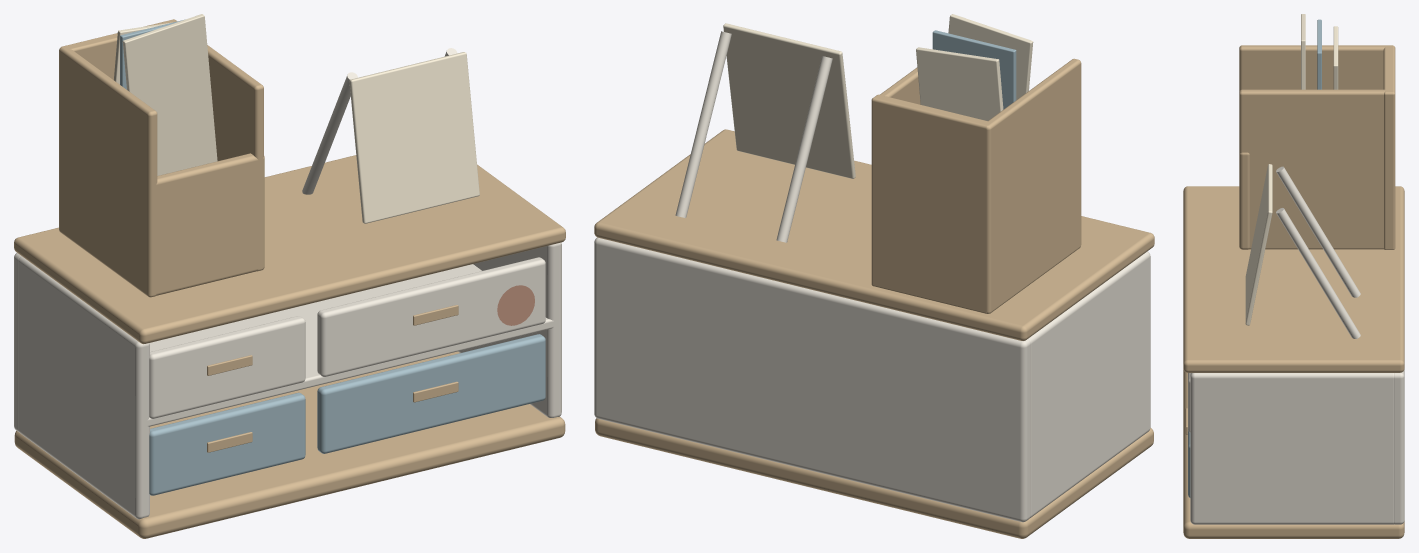
File: urban-study-organizer-v1.glb
The picture shows the model from 3 angles, left to right: view 1: azimuth 30°, elevation 25°; view 2: azimuth 150°, elevation 25°; view 3: azimuth 270°, elevation 25°; orthographic projection. The views are drawn at different scales.
Visible parts, largest first — view 1: Organizer-drawer-front (×4), Wood-organizer-top, Organizer-side (×2), File-holder-side (×2), Wood-organizer-base, Desk-calendar-paper, File-holder-front, Organizer-postcard, Organizer-middle-shelf, Calendar-easel, File-holder-back, Organizer-round-sticker (+1 smaller); view 2: Organizer-back, Wood-organizer-top, Organizer-side, File-holder-back, File-holder-side (×2), Desk-calendar-paper, Wood-organizer-base, Organizer-postcard (×3), Calendar-easel (×2); view 3: Organizer-side, Wood-organizer-top, File-holder-side (×2), Wood-organizer-base, Calendar-easel (×2), File-holder-back, Desk-calendar-paper, Organizer-back, Organizer-postcard (×3), File-holder-front.
Boxes of the visible parts, bbox=[...] form: Organizer-drawer-front (×4): bbox=[149, 257, 545, 495]; Wood-organizer-top: bbox=[14, 155, 565, 344]; Organizer-side (×2): bbox=[18, 242, 561, 519]; File-holder-side (×2): bbox=[59, 20, 263, 297]; Wood-organizer-base: bbox=[14, 351, 565, 538]; Desk-calendar-paper: bbox=[349, 52, 479, 223]; File-holder-front: bbox=[154, 153, 264, 295]; Organizer-postcard: bbox=[122, 14, 217, 175]; Organizer-middle-shelf: bbox=[147, 264, 554, 426]; Calendar-easel: bbox=[302, 72, 357, 194]; File-holder-back: bbox=[61, 19, 177, 79]; Organizer-round-sticker: bbox=[497, 285, 534, 325]; Organizer-back: bbox=[594, 237, 1030, 522]; Wood-organizer-top: bbox=[594, 129, 1154, 340]; Organizer-side: bbox=[1028, 251, 1150, 517]; File-holder-back: bbox=[871, 94, 988, 313]; File-holder-side (×2): bbox=[875, 58, 1081, 313]; Desk-calendar-paper: bbox=[723, 23, 855, 178]; Wood-organizer-base: bbox=[595, 418, 1153, 538]; Organizer-postcard (×3): bbox=[916, 14, 1033, 120]; Calendar-easel (×2): bbox=[675, 31, 832, 242]; Organizer-side: bbox=[1190, 373, 1393, 524]; Wood-organizer-top: bbox=[1183, 186, 1404, 372]; File-holder-side (×2): bbox=[1239, 45, 1392, 249]; Wood-organizer-base: bbox=[1183, 369, 1404, 538]; Calendar-easel (×2): bbox=[1276, 166, 1360, 338]; File-holder-back: bbox=[1383, 45, 1395, 249]; Desk-calendar-paper: bbox=[1245, 164, 1272, 325]; Organizer-back: bbox=[1394, 369, 1404, 524]; Organizer-postcard (×3): bbox=[1301, 14, 1338, 89]; File-holder-front: bbox=[1239, 152, 1249, 249].
Size of the model in its own units: 0.18 by 0.1794 by 0.095.
